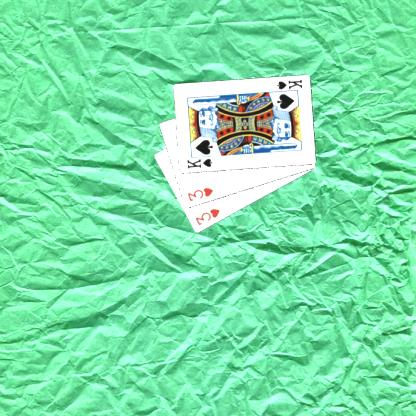3H: (192, 206, 222, 227), (184, 185, 215, 202)
KS: (272, 77, 303, 93), (184, 156, 214, 170)
